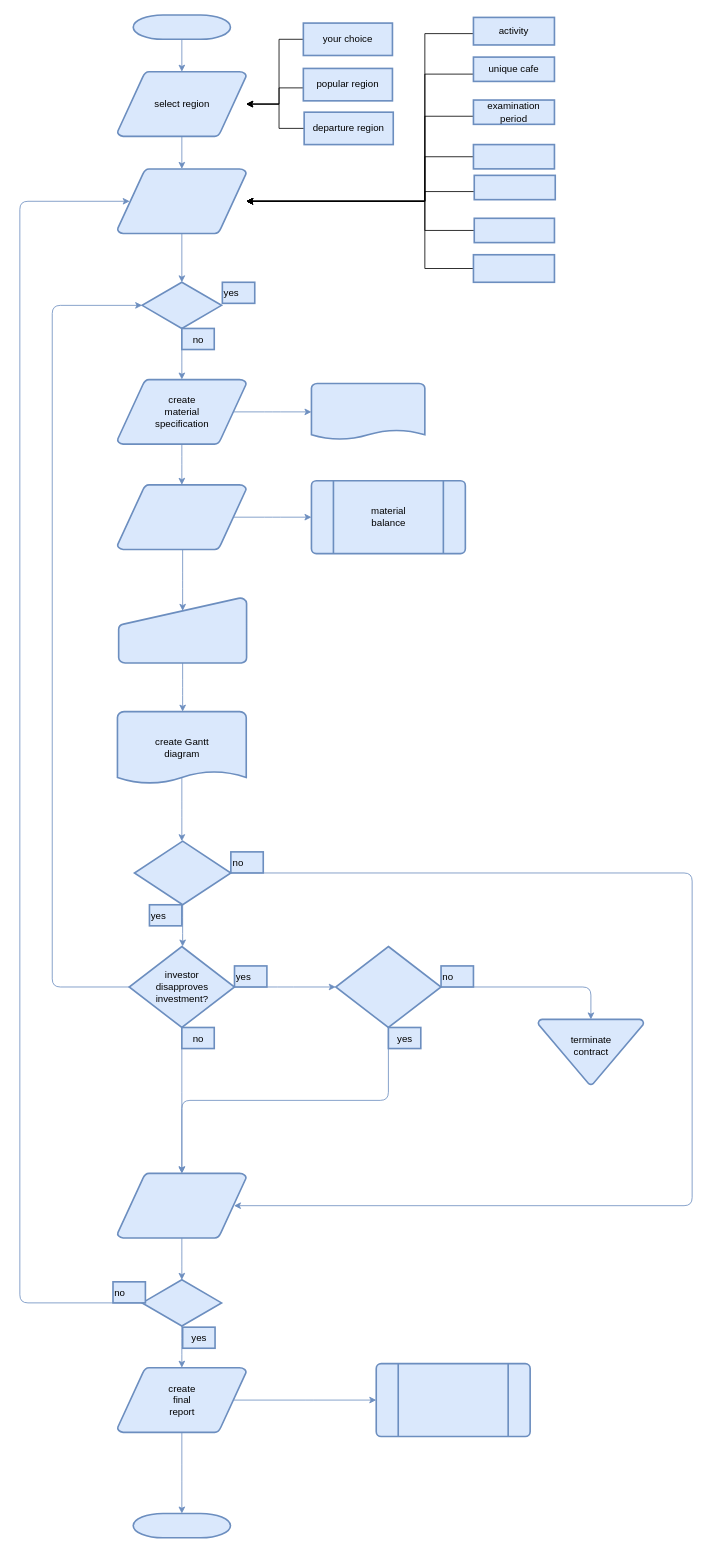
Some shapes in this 713 by 1552 pixel diagram are drawn without their labels. The shapes that lost their labels are listed below. From the top down, each one's centre as x and y in pixels, then its label:
At point (181, 27): "login".
At point (181, 201): "take one's pict".
At point (181, 305): "obscurities?".
At point (367, 411): "final project".
At point (181, 517): "order material".
At point (182, 630): "organize workforce".
At point (182, 872): "late project changes?".
At point (388, 986): "agreement?".
At point (181, 1205): "create status report".
At point (181, 1302): "project complete?".
At point (453, 1399): "issue bill of works".
At point (181, 1525): "end".
